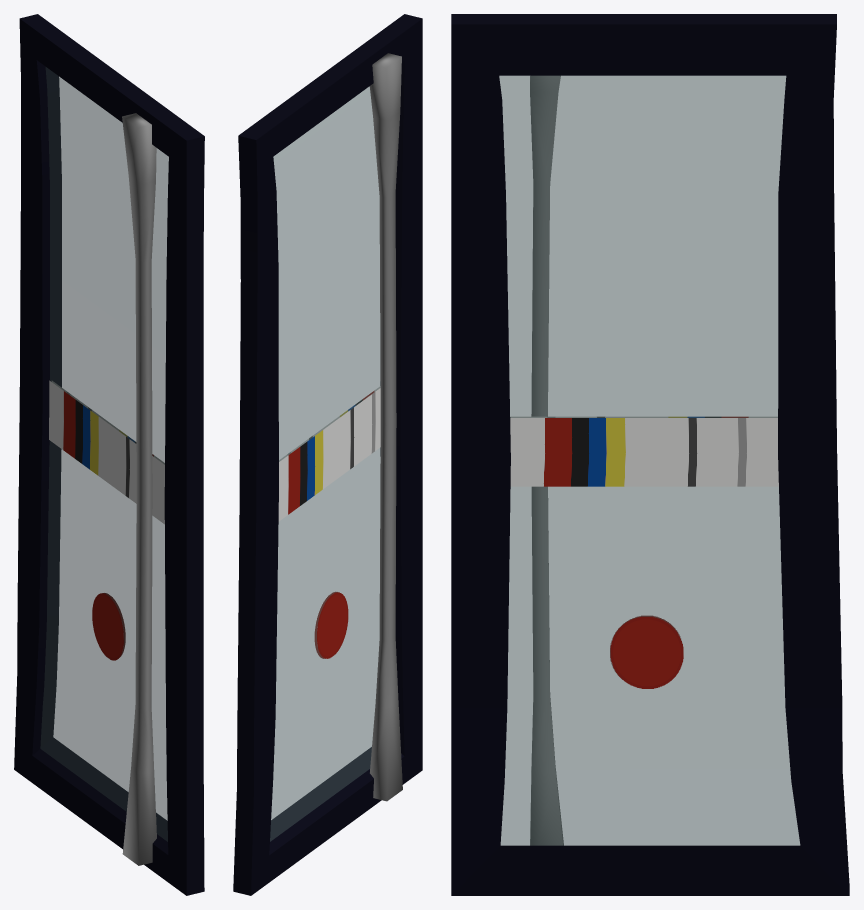
Rendered from Door_Left.FBX.
3 views of the same model, side by side, from view 1: azimuth 30°, elevation 25°; view 2: azimuth 150°, elevation 25°; view 3: azimuth 270°, elevation 25° (orthographic). The views are drawn at different scales.
Parts seen in each view (by area): view 1: Object002; view 2: Object002; view 3: Object002.
Part boxes in pixels (left/top/right/bottom): Object002: left=14, top=14, right=204, bottom=895; Object002: left=233, top=14, right=422, bottom=895; Object002: left=451, top=14, right=849, bottom=895.
Size of the model in its own units: 11.36 by 254 by 105.
4 materials, 1 textured.
